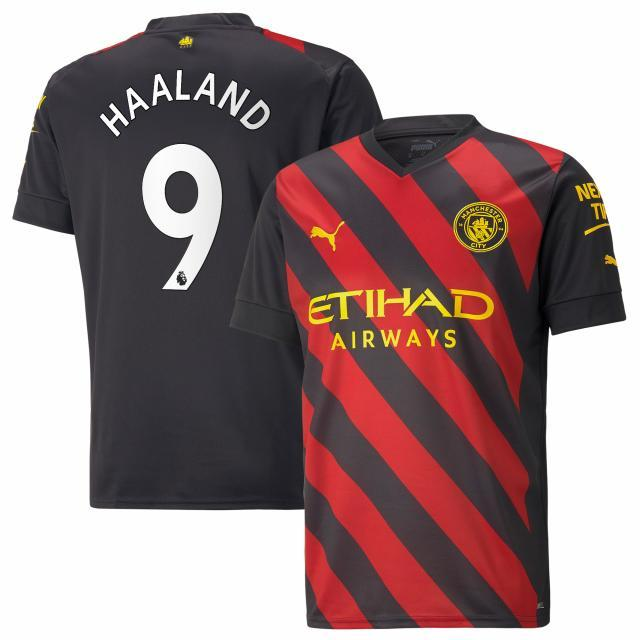Etihad Airways: (307, 287, 494, 350)
Puma: (307, 220, 348, 252), (603, 254, 619, 270)
